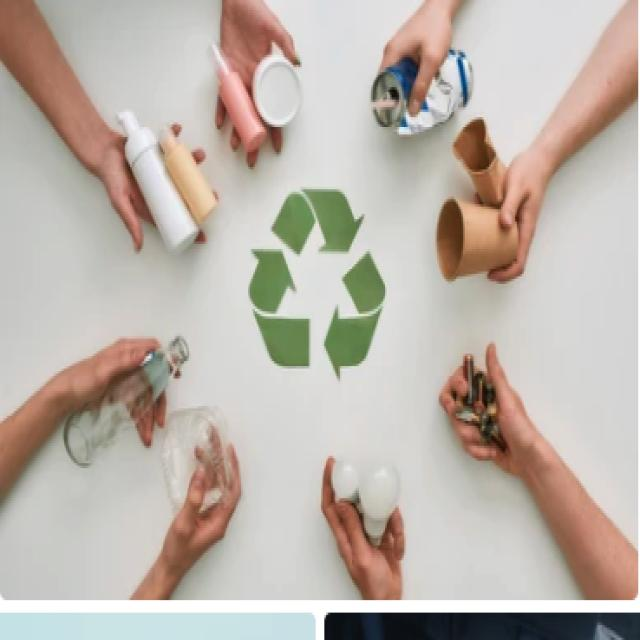BotolKaca: (58, 330, 197, 462)
BotolPlastik: (111, 102, 222, 260), (195, 16, 312, 150), (166, 403, 235, 524)
Kaleng: (371, 49, 472, 139)
KertasBekas: (441, 123, 512, 295)
